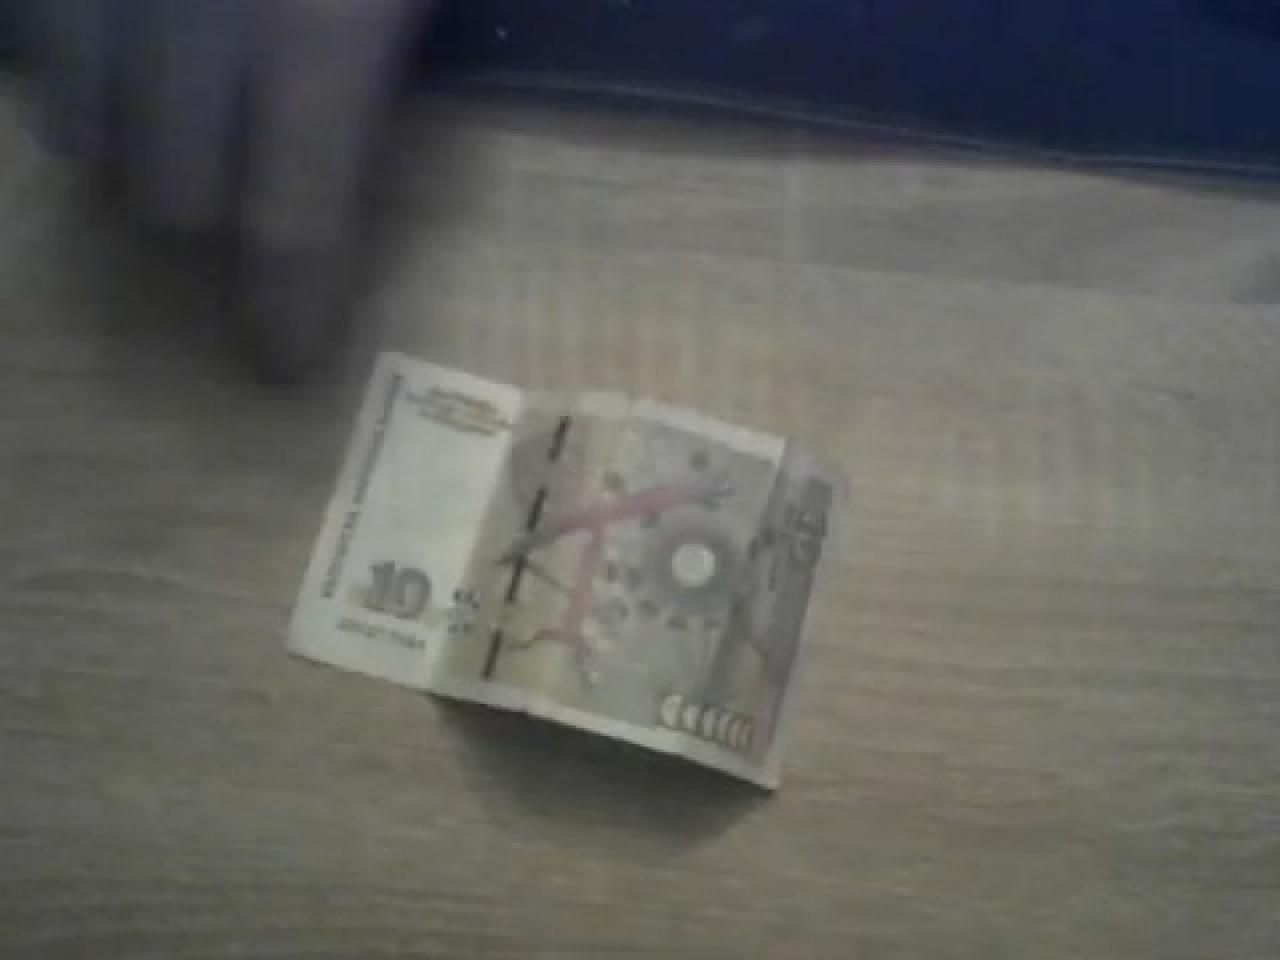10leva: (285, 352, 840, 792)
